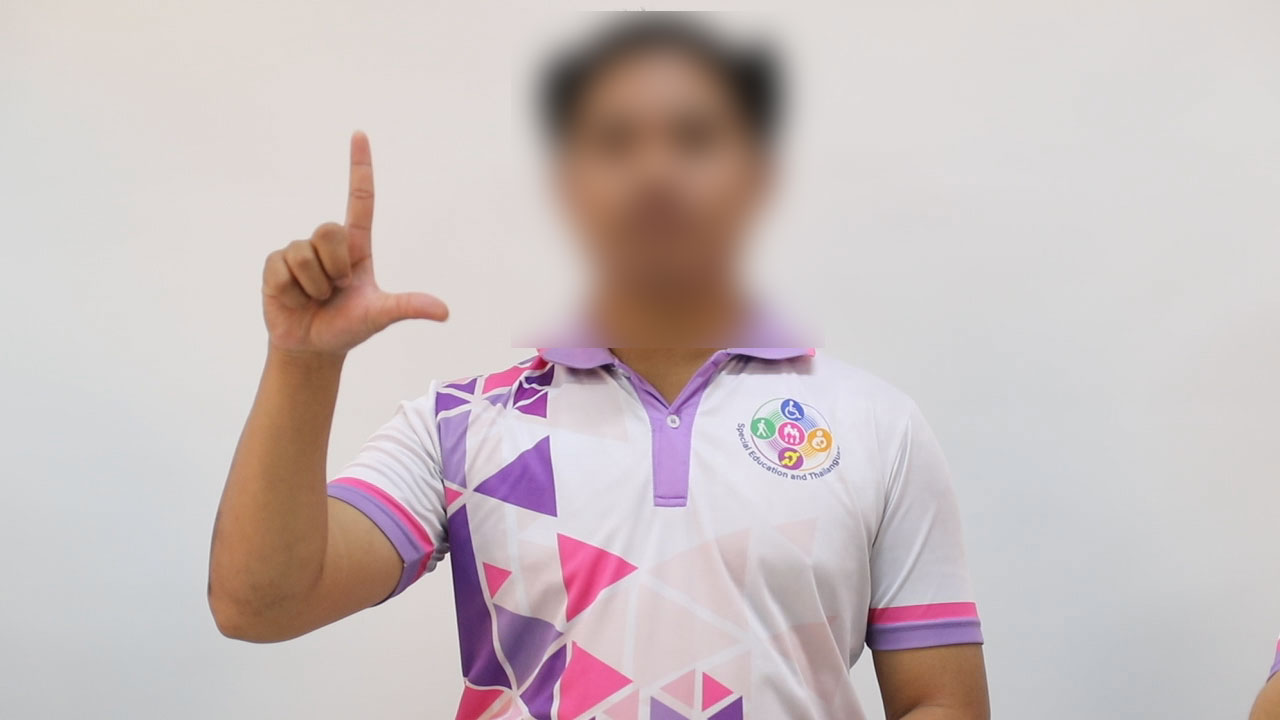lor: (242, 116, 464, 390)
